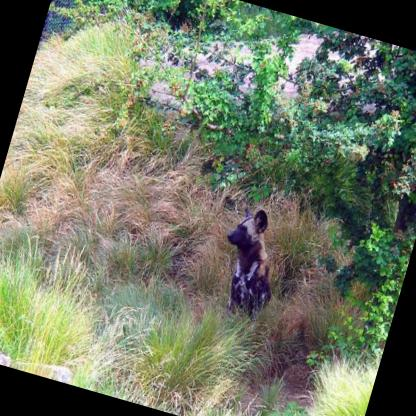African_hunting_dog: (204, 197, 298, 322)
